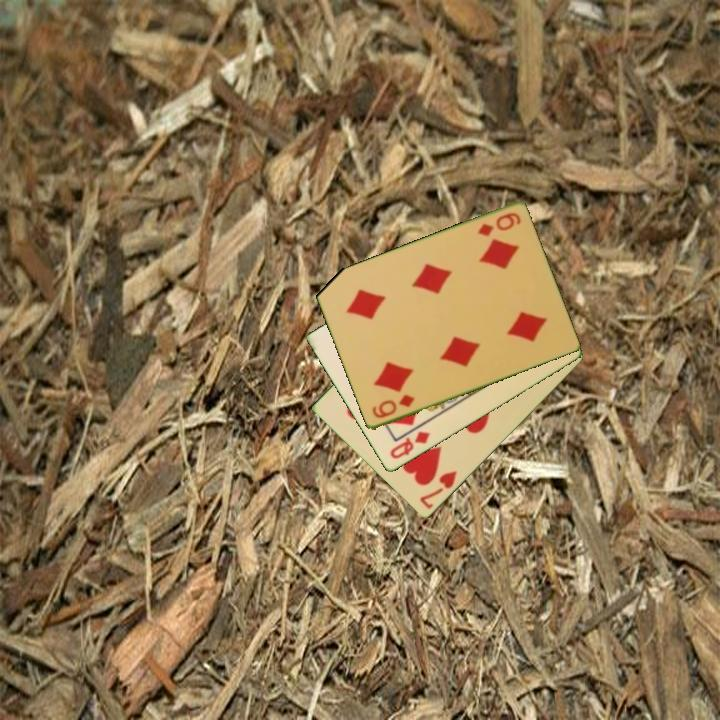6d: (474, 209, 523, 240), (368, 391, 417, 421)
7h: (416, 467, 460, 512)
Qd: (386, 428, 433, 462)
